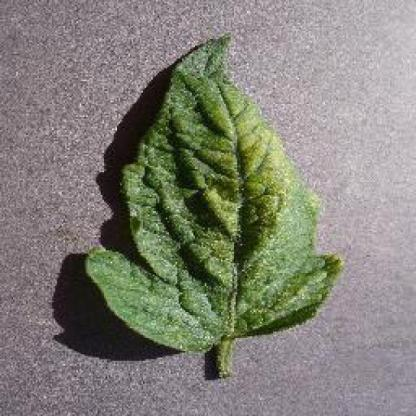Tomato_Spider_Mites: (86, 32, 342, 349)
